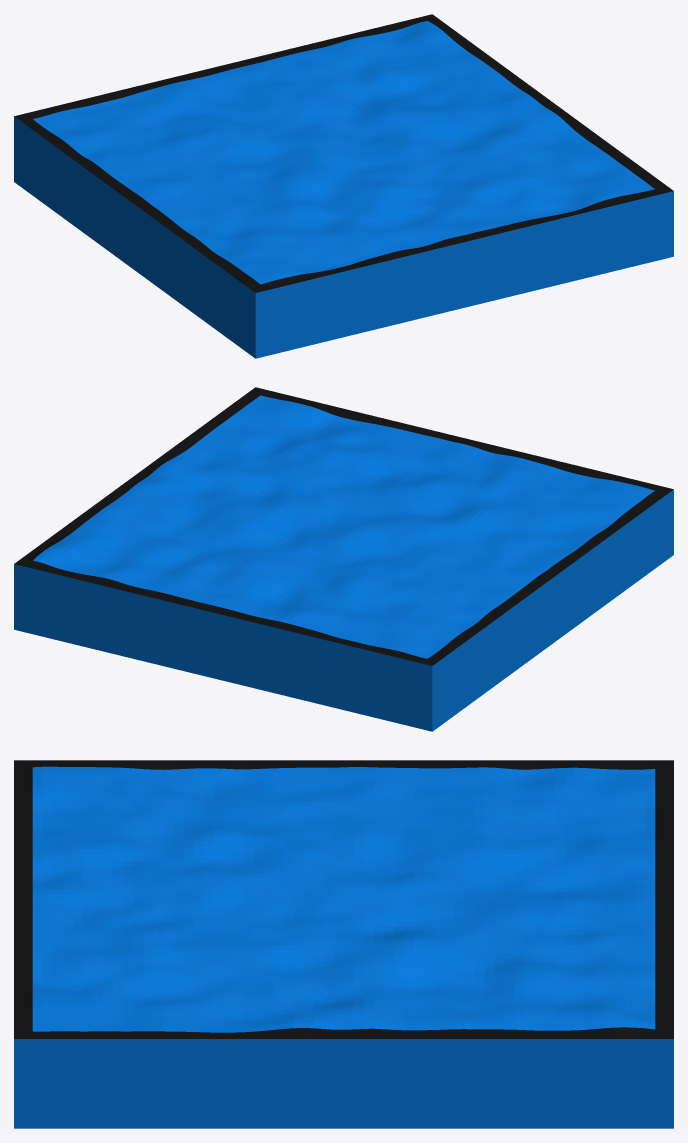
The model's file is tile_4.fbx.
The picture shows the model from 3 angles, top to bottom: view 1: azimuth 30°, elevation 25°; view 2: azimuth 150°, elevation 25°; view 3: azimuth 270°, elevation 25°; orthographic projection. The views are drawn at different scales.
Parts seen in each view (by area): view 1: Cube; view 2: Cube; view 3: Cube.
Boxes of the visible parts, bbox=[...] form: Cube: bbox=[14, 14, 673, 358]; Cube: bbox=[14, 387, 673, 731]; Cube: bbox=[14, 760, 673, 1128].
Size of the model in its own units: 200 by 32.03 by 200.
